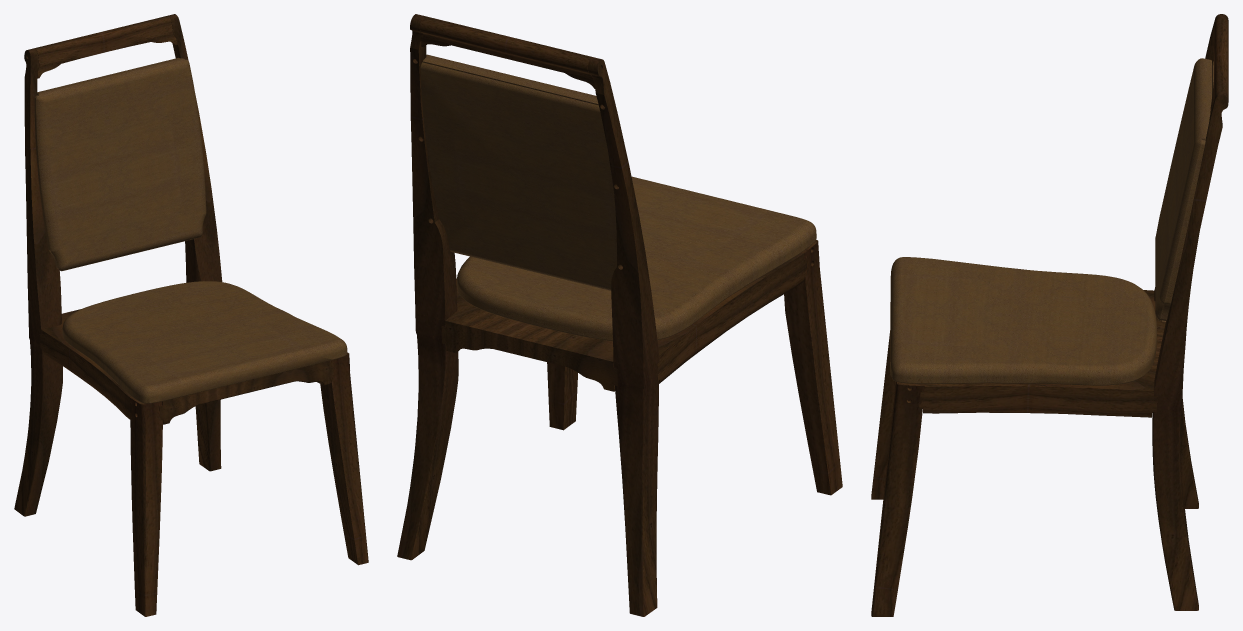
File: legacy-side.glb
3 views of the same model, side by side, from view 1: azimuth 30°, elevation 25°; view 2: azimuth 150°, elevation 25°; view 3: azimuth 270°, elevation 25° (orthographic). The views are drawn at different scales.
Parts seen in each view (by area): view 1: Body1.001, Body17; view 2: Body1.001, Body17; view 3: Body1.001, Body17.
Boxes of the visible parts, box(x1,y1,x2,y2) form: Body1.001: box(34, 57, 347, 403); Body17: box(14, 14, 368, 616); Body1.001: box(420, 54, 816, 341); Body17: box(397, 14, 842, 616); Body1.001: box(890, 58, 1213, 385); Body17: box(871, 14, 1228, 616).
Bounding box in the file's own units: 0.5347 × 1.02 × 0.6548.
Materials: 2 (2 with a texture image).
